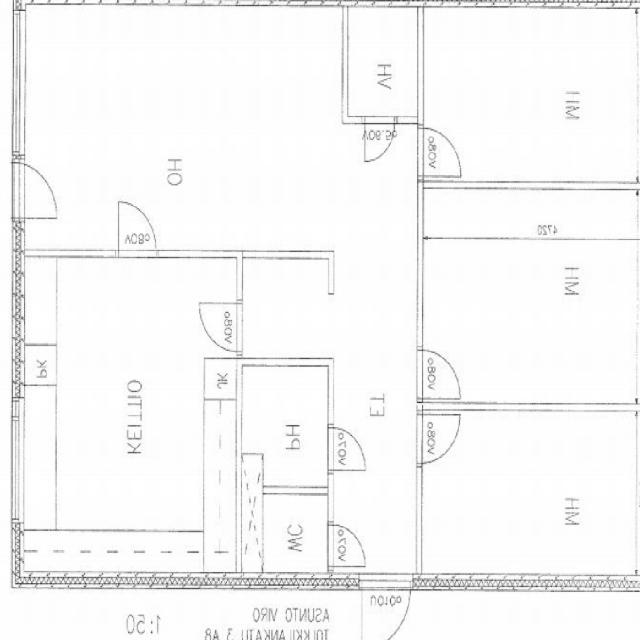door: (363, 572, 410, 640), (119, 202, 156, 258), (200, 303, 243, 351), (418, 414, 460, 462), (418, 350, 460, 398), (418, 128, 460, 176), (328, 524, 366, 566), (328, 428, 366, 470), (365, 116, 395, 161)
